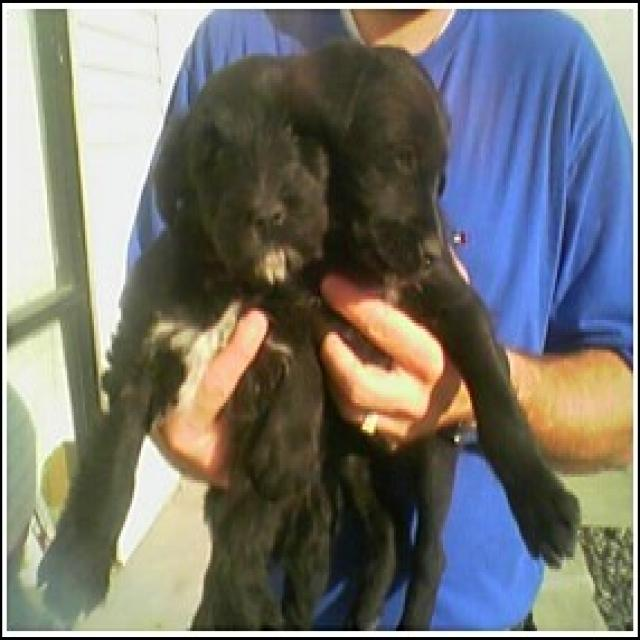Dogs: (33, 36, 580, 628)
